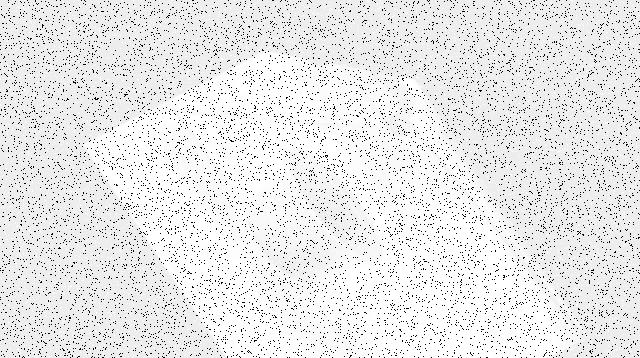pot: (245, 147, 382, 283)
